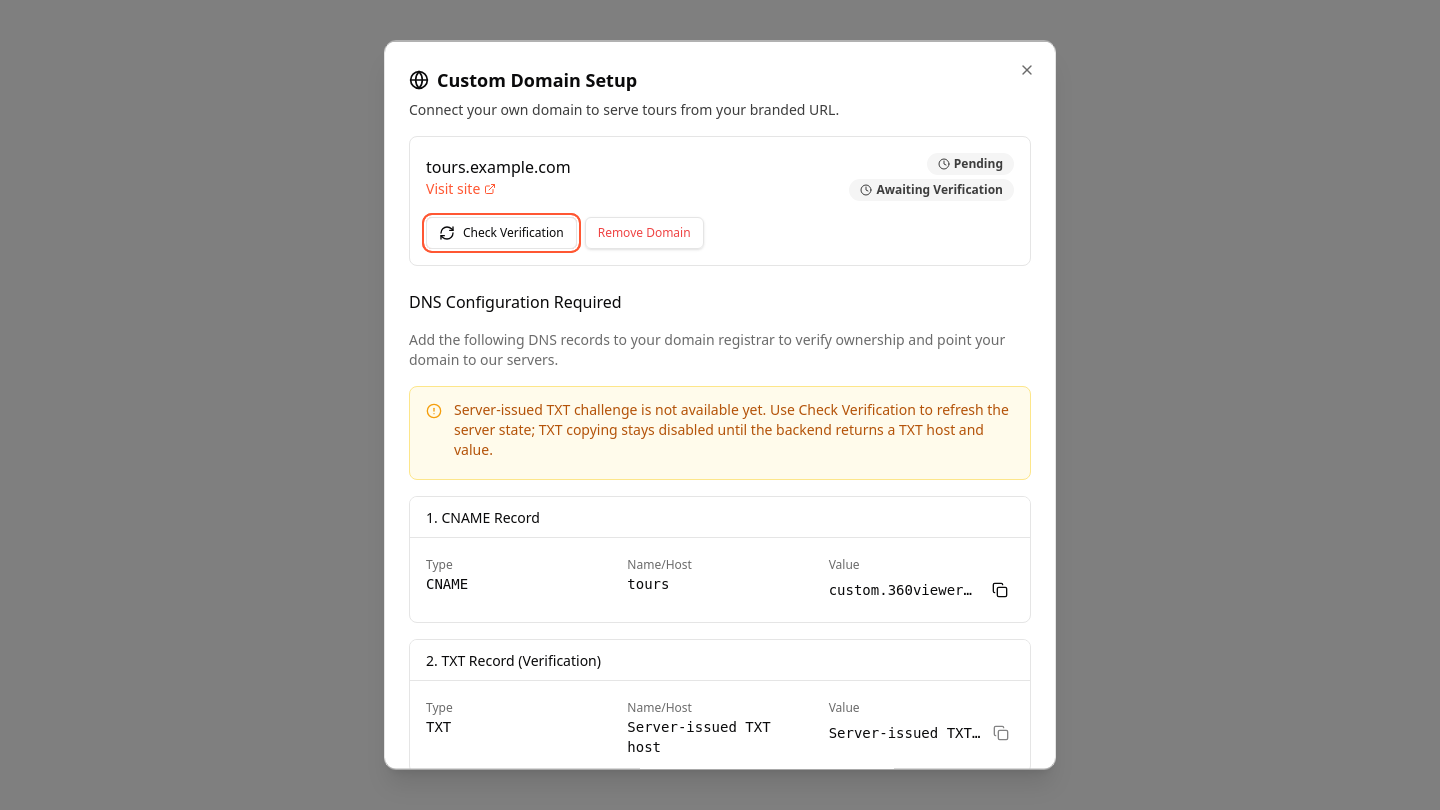
Test: Custom domain setup behavior › can load a missing TXT challenge for an existing server-backed domain
The width and height of the screenshot is (1440, 810).
Click the button "Check Verification" at (501, 232), box x1=426 y1=216 x2=577 y2=248
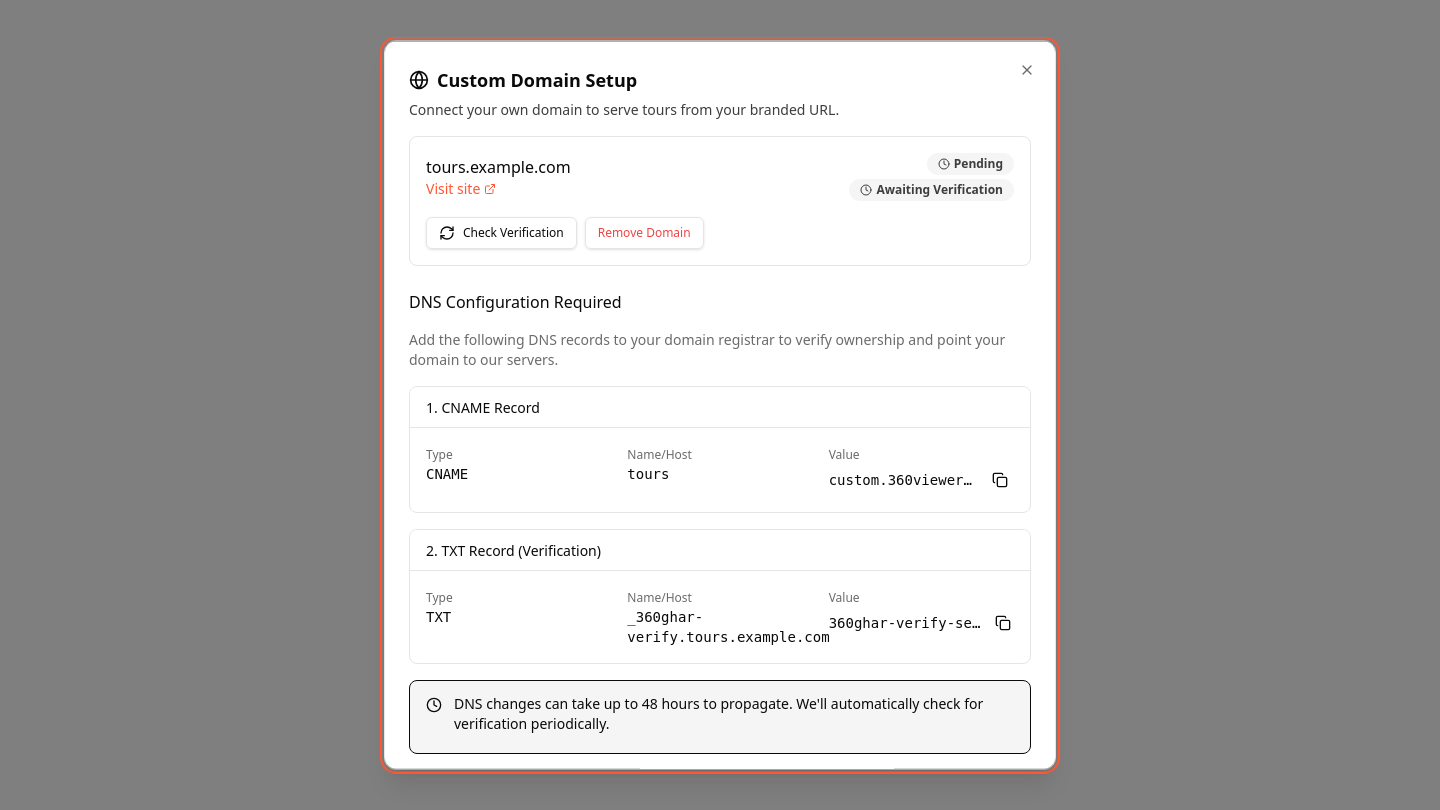
Now the text "_360ghar-verify.tours.example.com" is shown, box x1=627 y1=606 x2=813 y2=646
Now the text "360ghar-verify-server-issued" is shown, box x1=829 y1=612 x2=985 y2=632
